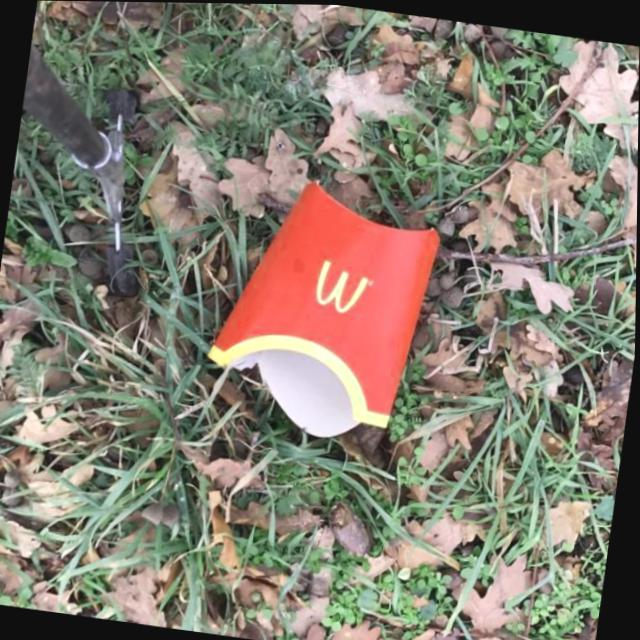Paper: (195, 165, 449, 450)
